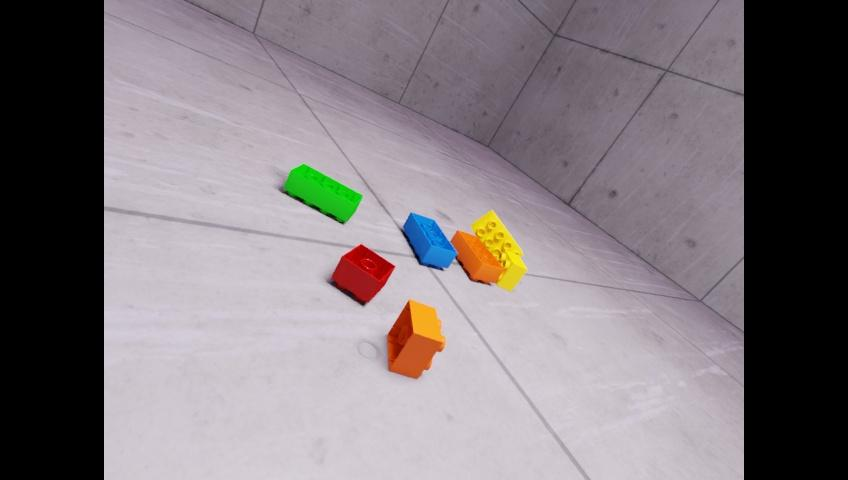2x2_orange: (387, 298, 445, 378)
2x2_red: (331, 243, 395, 302)
2x2_yellow: (496, 249, 526, 291)
4x2_blue: (402, 211, 456, 268)
4x2_green: (283, 162, 362, 222)
4x2_orange: (450, 229, 503, 283)
4x2_yellow: (470, 209, 522, 259)
